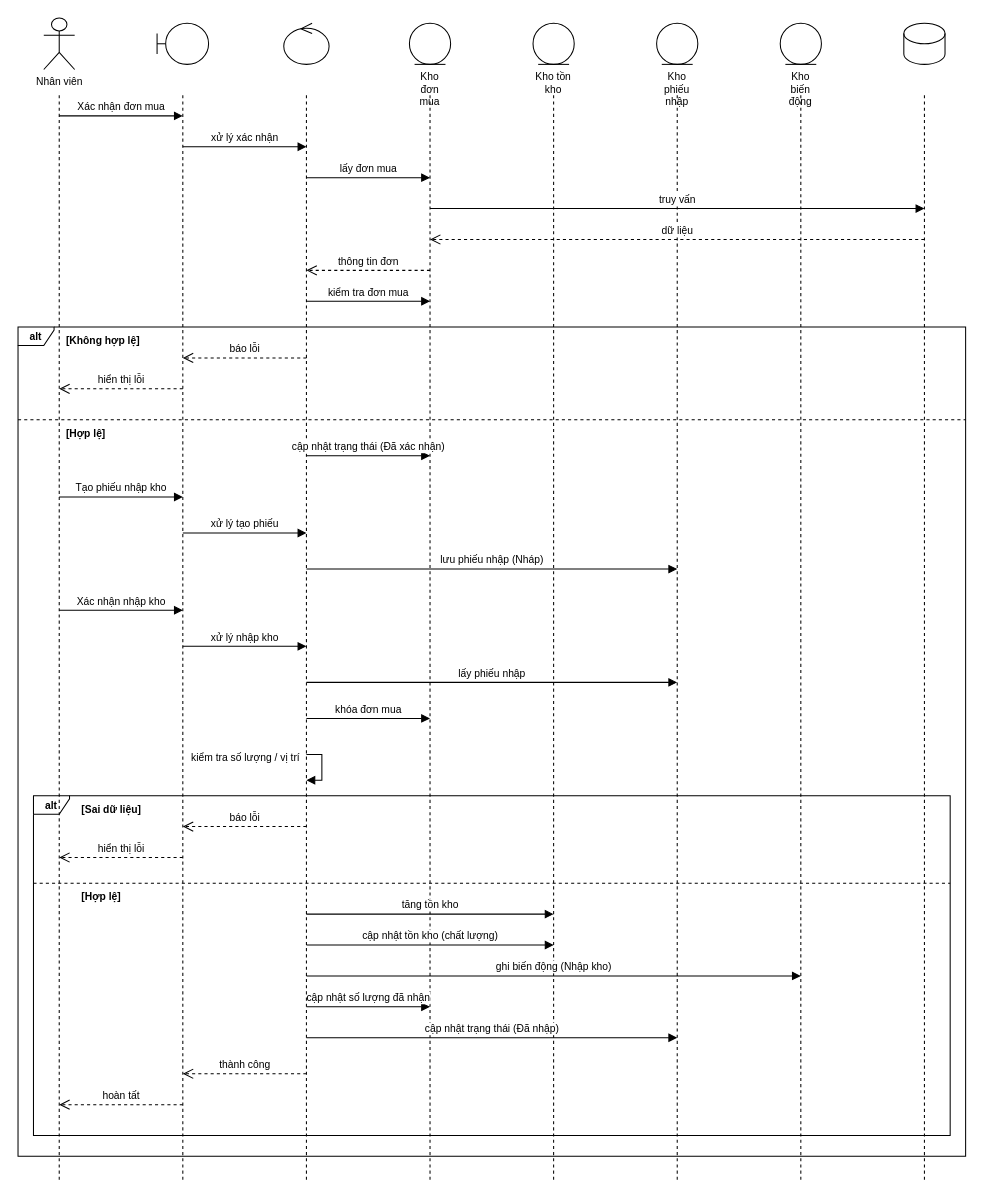
Image size: 985x1201. Some labels were removed from this diagram. The shapes that lost their labels are listed below. From the top down, each one's centre as x and y in pixels, then its label:
At point 182,43: "Bộ điều khiển".
At point 306,43: "Dịch vụ".
At point 924,43: "Cơ sở dữ liệu".
